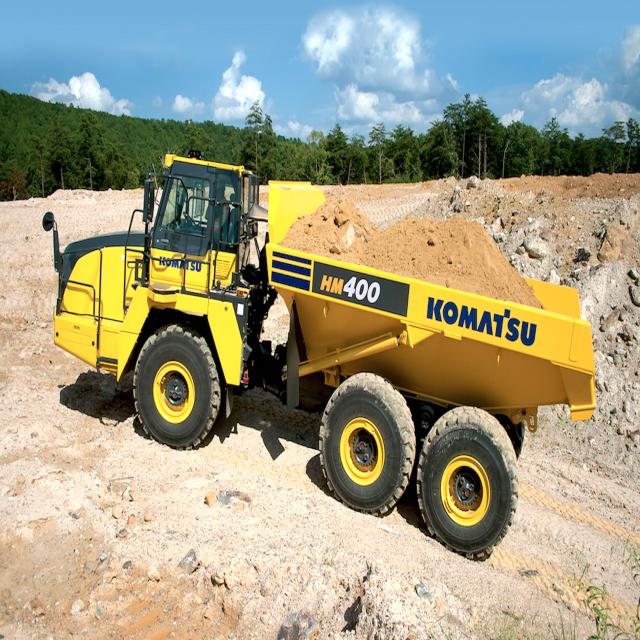dump_truck: (42, 139, 616, 574)
